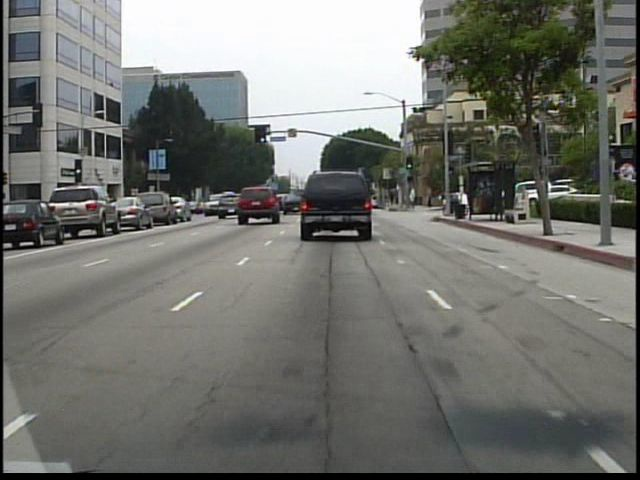person: (406, 184, 419, 213), (423, 181, 435, 211), (387, 185, 398, 209)
